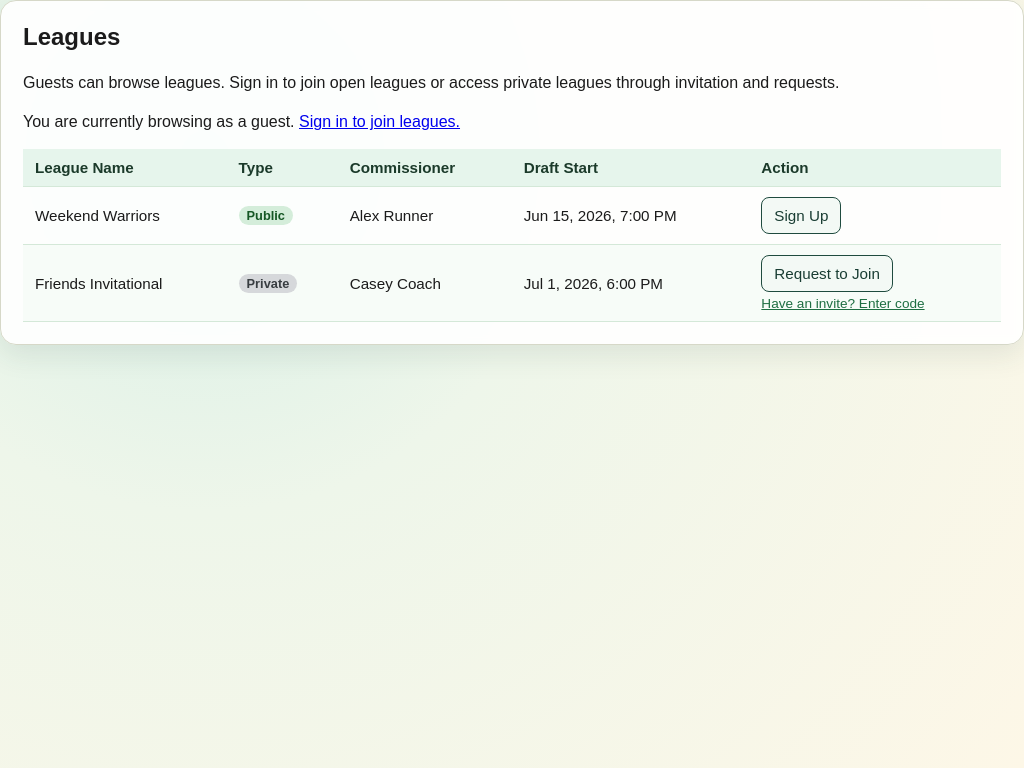
Scenario: LeaguesPage › shows warning feedback when unauthenticated user clicks Sign Up
The width and height of the screenshot is (1024, 768).
Check: the text "Weekend Warriors" is shown, box [23,187,227,245]
What coordinates should you click on to do the following:
click the button "Sign Up"
I would click on:
 (801, 216)
Its box is [761,197,841,234].
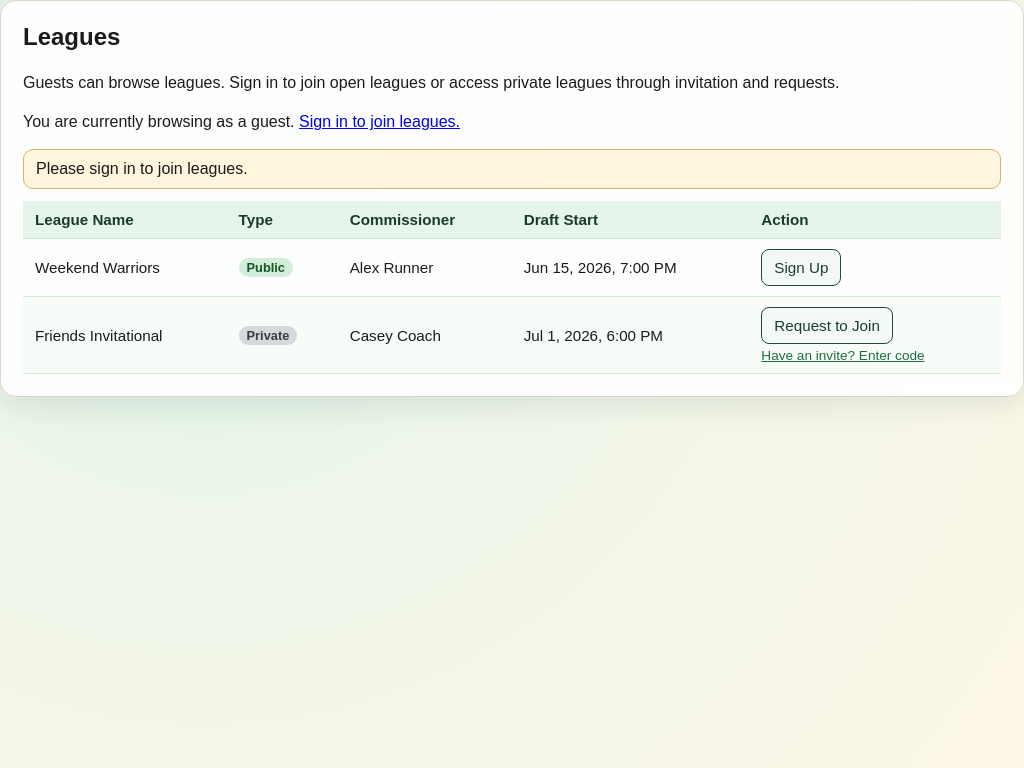
Check: the text "Please sign in to join leagues." is shown, box [23,149,1001,189]
